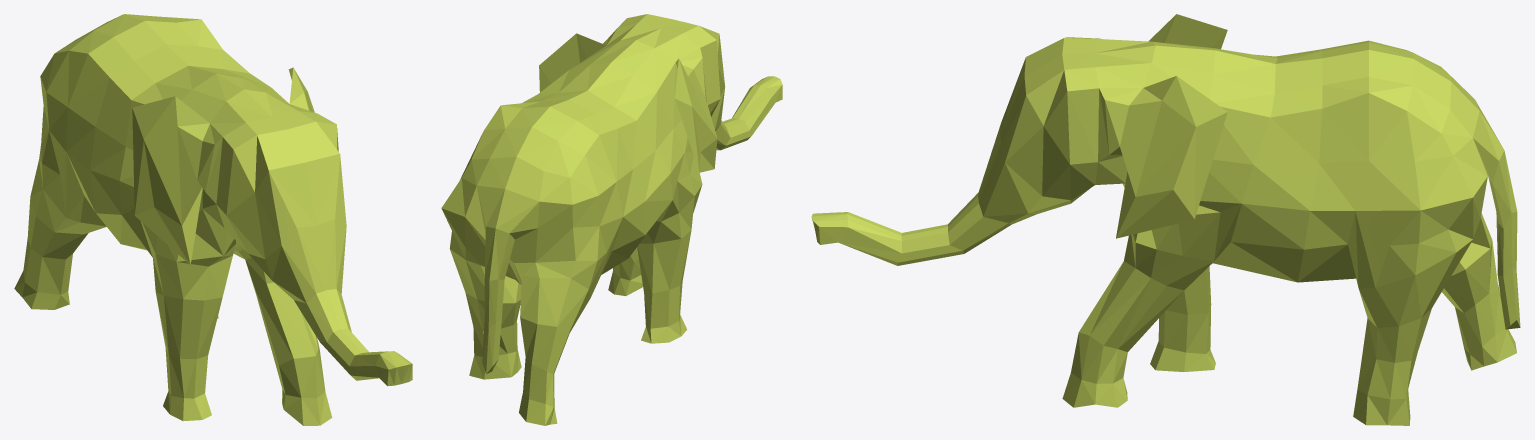
File: elephant.fbx
3 views of the same model, side by side, from view 1: azimuth 30°, elevation 25°; view 2: azimuth 150°, elevation 25°; view 3: azimuth 270°, elevation 25° (orthographic). The views are drawn at different scales.
Visible parts, largest first — view 1: Elephant; view 2: Elephant; view 3: Elephant.
Boxes of the visible parts, x1,y1,x2,y2 form: Elephant: [14, 14, 412, 425]; Elephant: [441, 14, 782, 425]; Elephant: [811, 14, 1520, 425].
Bounding box in the file's own units: 276 × 458 × 860.
